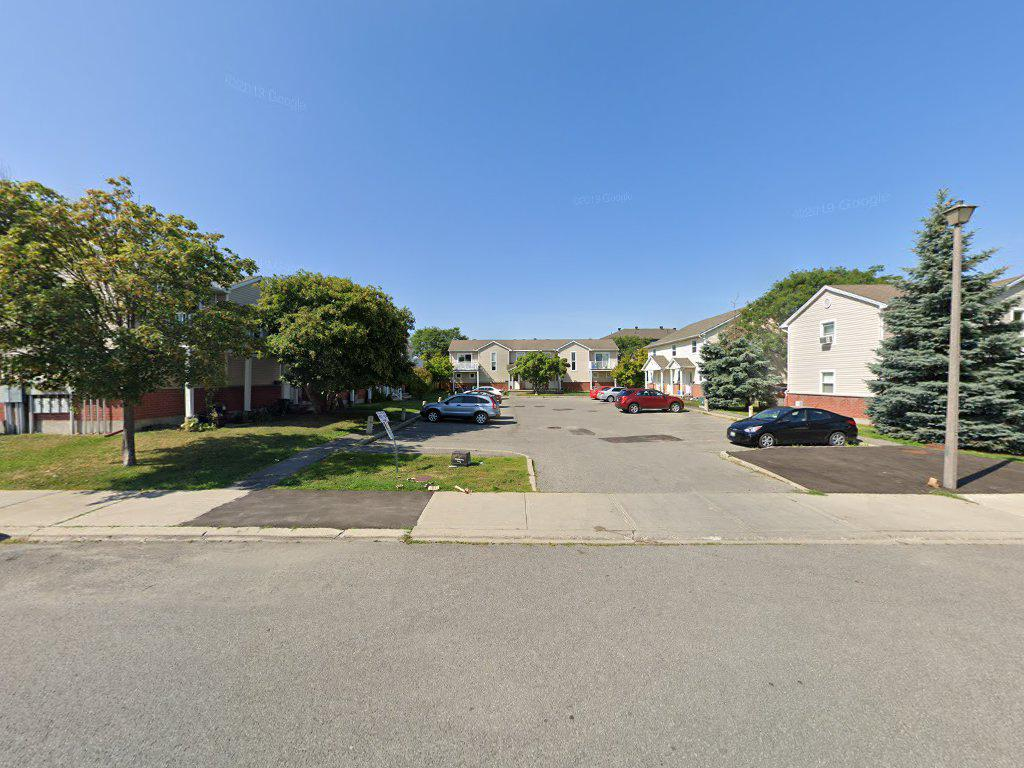trunk: (117, 388, 138, 471)
